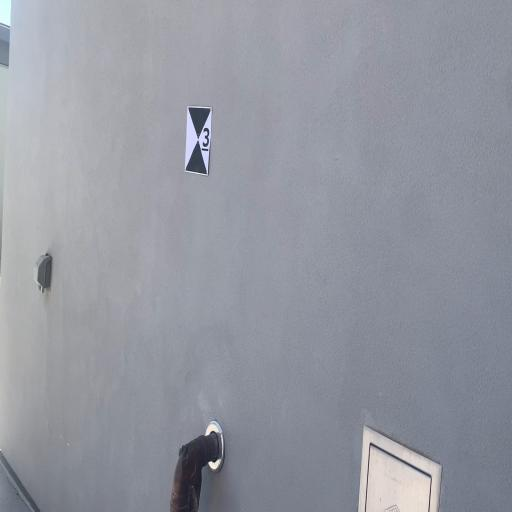target3: (184, 105, 213, 175)
